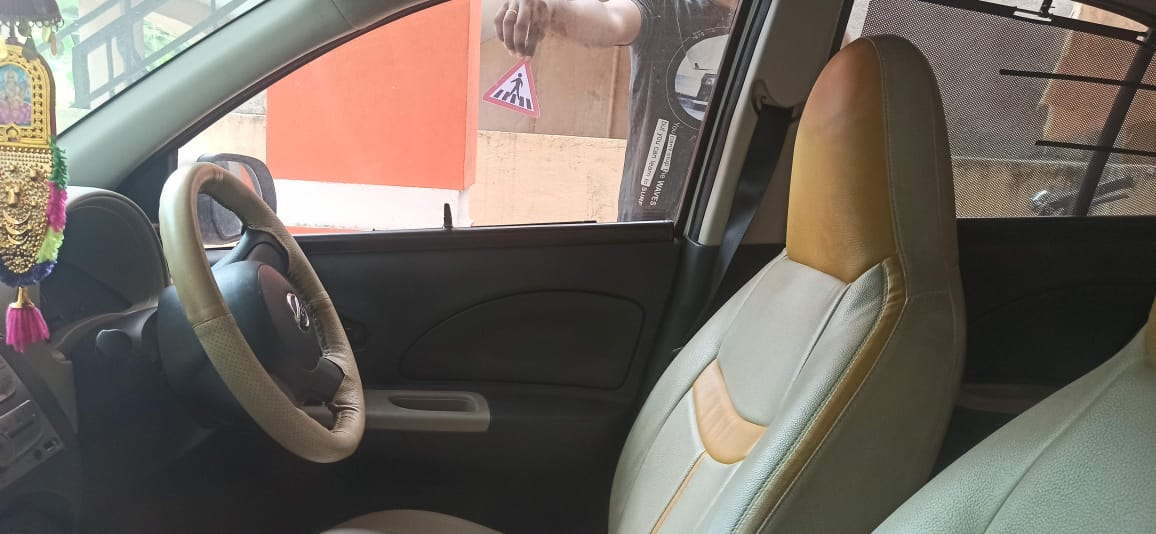PEDESTRIAN CROSSING: (484, 38, 544, 119)
